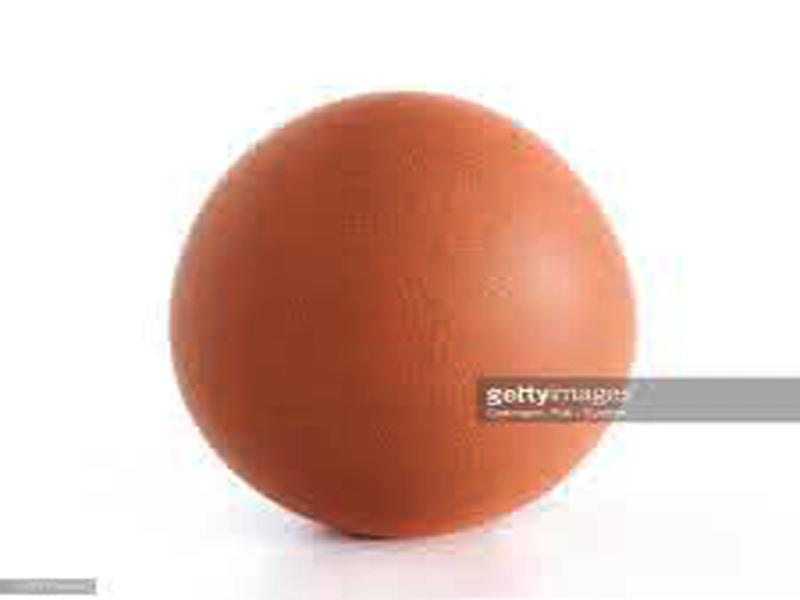Eggs: (171, 91, 636, 528)
